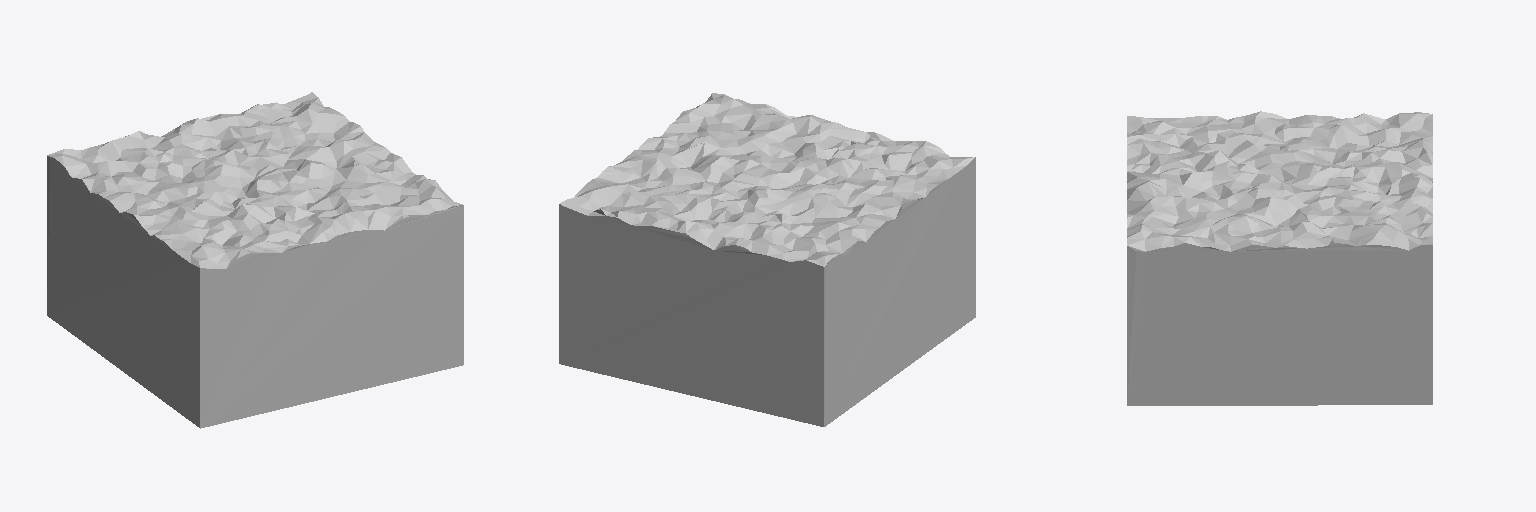
The model's file is water_000005.obj.
3 views of the same model, side by side, from view 1: azimuth 30°, elevation 25°; view 2: azimuth 150°, elevation 25°; view 3: azimuth 270°, elevation 25° (orthographic).
Visible parts, largest first — view 1: Plane; view 2: Plane; view 3: Plane.
Part boxes in pixels (x1,y1,x2,y2): Plane: (47,92,463,428); Plane: (559,93,975,426); Plane: (1127,111,1432,405).
Size of the model in its own units: 16.15 by 9.94 by 16.12.